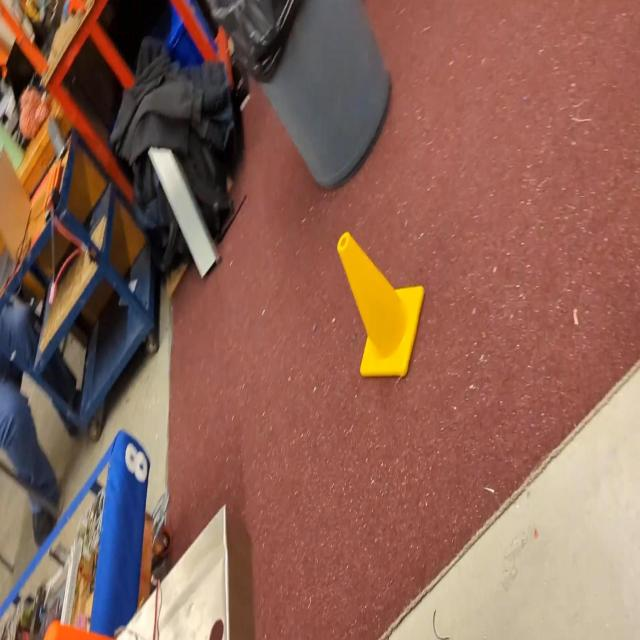frc_cone: (336, 231, 425, 386)
